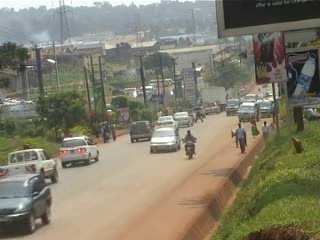Car: (0, 171, 53, 233), (56, 133, 100, 168), (147, 126, 182, 155), (127, 118, 154, 144), (152, 113, 180, 133), (171, 109, 195, 130), (203, 101, 222, 116)
Motorcycle: (179, 133, 196, 162)
